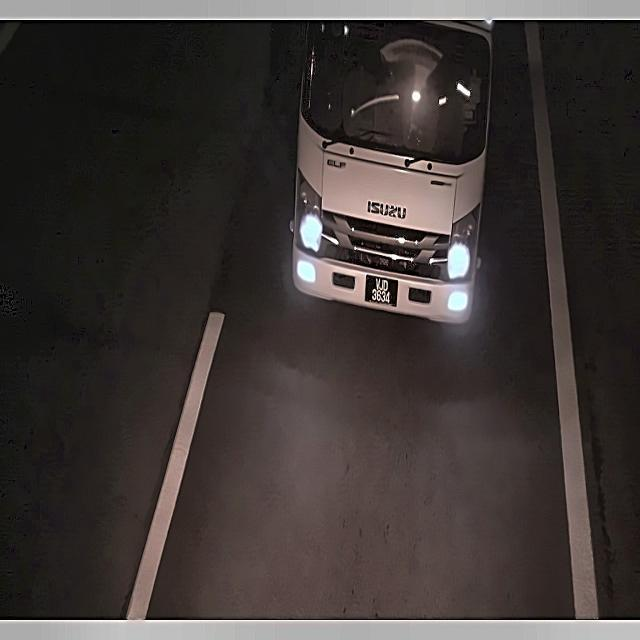car: (362, 262, 402, 321)
